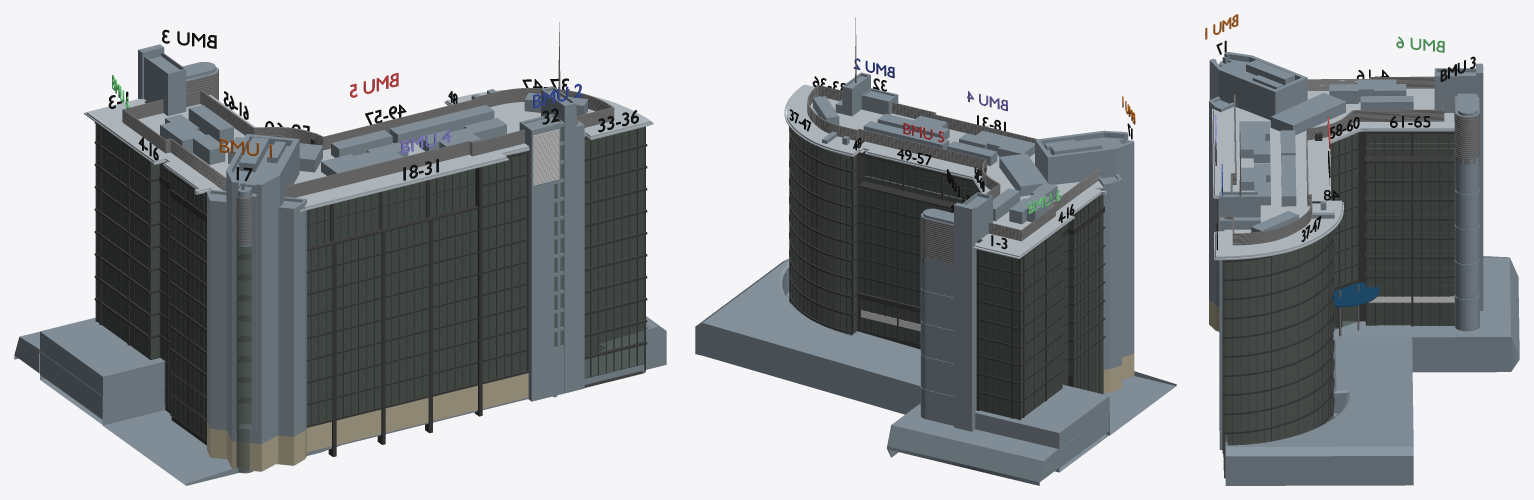
The model's file is 1SheldonSquare.glb.
3 views of the same model, side by side, from view 1: azimuth 30°, elevation 25°; view 2: azimuth 150°, elevation 25°; view 3: azimuth 270°, elevation 25° (orthographic). The views are drawn at different scales.
Visible parts, largest first — view 1: 1 sheldonsq, Drop17, Drop35, Drop34, Drop33, Drop24, Drop21, Drop27, Drop31, Drop36, Drop28, Drop30 (+21 smaller); view 2: 1 sheldonsq, Drop2, Drop50, Drop47, Drop1, Drop46, Drop3, Drop52, Drop49, Drop51, Drop45, Drop53 (+15 smaller); view 3: 1 sheldonsq, Drop64, Drop62, Drop61, Drop63, Drop37, Drop38, Drop39, Drop65, Drop40, Drop41, Drop42 (+6 smaller).
Boxes of the visible parts, x1,y1,x2,y2 form: 1 sheldonsq: (14, 22, 666, 485); Drop17: (236, 245, 251, 473); Drop35: (614, 131, 629, 370); Drop34: (599, 134, 613, 374); Drop33: (584, 138, 598, 378); Drop24: (396, 184, 414, 402); Drop21: (349, 196, 366, 414); Drop27: (445, 172, 462, 390); Drop31: (512, 154, 526, 374); Drop36: (630, 127, 644, 367); Drop28: (460, 168, 477, 386); Drop30: (497, 158, 511, 378); 1 sheldonsq: (695, 17, 1176, 485); Drop2: (992, 253, 1005, 416); Drop50: (872, 160, 889, 335); Drop47: (840, 154, 851, 335); Drop1: (980, 250, 992, 413); Drop46: (828, 151, 839, 331); Drop3: (1006, 256, 1019, 418); Drop52: (898, 166, 915, 341); Drop49: (859, 157, 876, 332); Drop51: (885, 163, 902, 338); Drop45: (817, 147, 827, 327); Drop53: (911, 169, 929, 343); 1 sheldonsq: (1209, 52, 1519, 485); Drop64: (1421, 134, 1439, 325); Drop62: (1384, 134, 1402, 325); Drop61: (1366, 134, 1384, 325); Drop63: (1402, 134, 1421, 325); Drop37: (1224, 262, 1240, 478); Drop38: (1240, 260, 1256, 444); Drop39: (1256, 257, 1271, 443); Drop65: (1440, 134, 1454, 325); Drop40: (1272, 253, 1285, 441); Drop41: (1286, 249, 1298, 438); Drop42: (1298, 245, 1309, 434).
Bounding box in the file's own units: 49.61 × 37.49 × 32.08.
